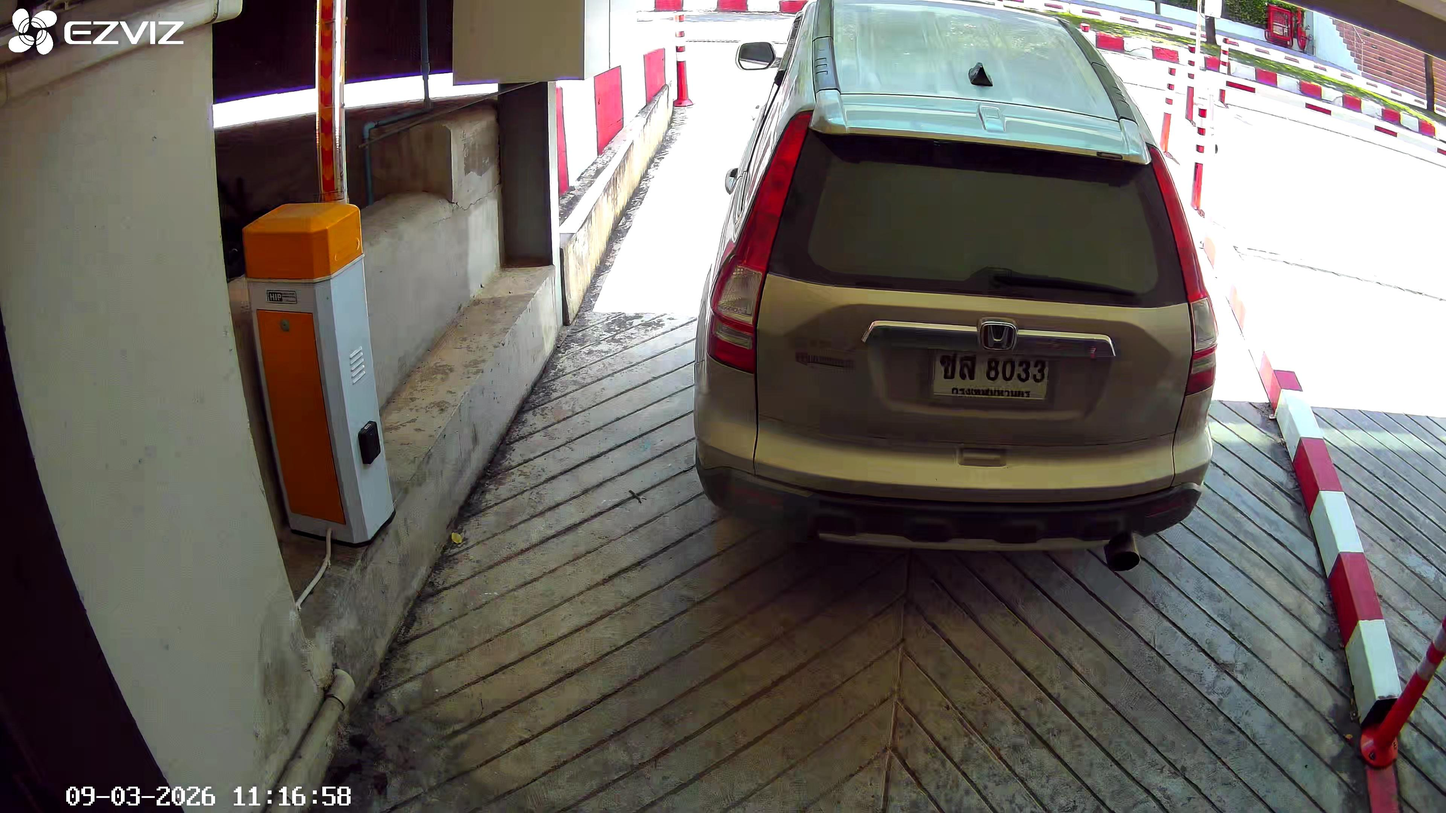car: (689, 2, 1220, 561)
license-plate: (924, 342, 1055, 408)
